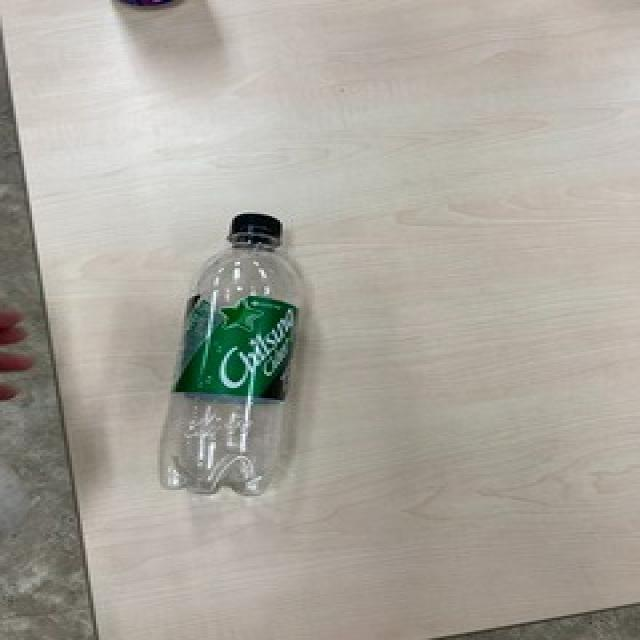good: (156, 209, 308, 507)
